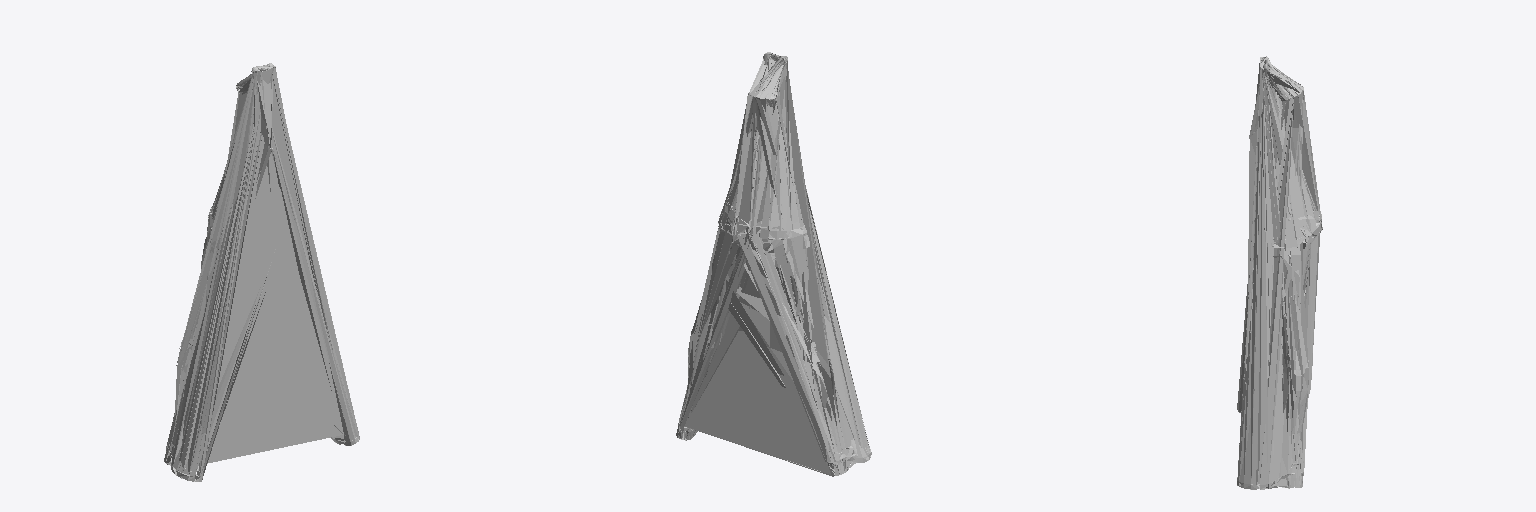
The model's file is ytryrt.obj.
The picture shows the model from 3 angles: view 1: azimuth 30°, elevation 25°; view 2: azimuth 150°, elevation 25°; view 3: azimuth 270°, elevation 25°; orthographic projection.
Parts seen in each view (by area): view 1: Model001_4_+gun_1_0_0, Model001_4_jacket_1_0_0, Model001_24_face_1_0_0; view 2: Model001_4_+gun_1_0_0, Model001_4_jacket_1_0_0, Model001_24_face_1_0_0; view 3: Model001_4_+gun_1_0_0, Model001_4_jacket_1_0_0.
Boxes of the visible parts, box(x1,y1,x2,y2) form: Model001_4_+gun_1_0_0: box(164, 64, 359, 481); Model001_4_jacket_1_0_0: box(164, 71, 358, 481); Model001_24_face_1_0_0: box(236, 66, 273, 148); Model001_4_+gun_1_0_0: box(676, 52, 871, 475); Model001_4_jacket_1_0_0: box(677, 57, 870, 476); Model001_24_face_1_0_0: box(754, 54, 786, 106); Model001_4_+gun_1_0_0: box(1237, 63, 1322, 489); Model001_4_jacket_1_0_0: box(1237, 61, 1320, 489).
Bounding box in the file's own units: 0.7737 × 1.6 × 0.3187.